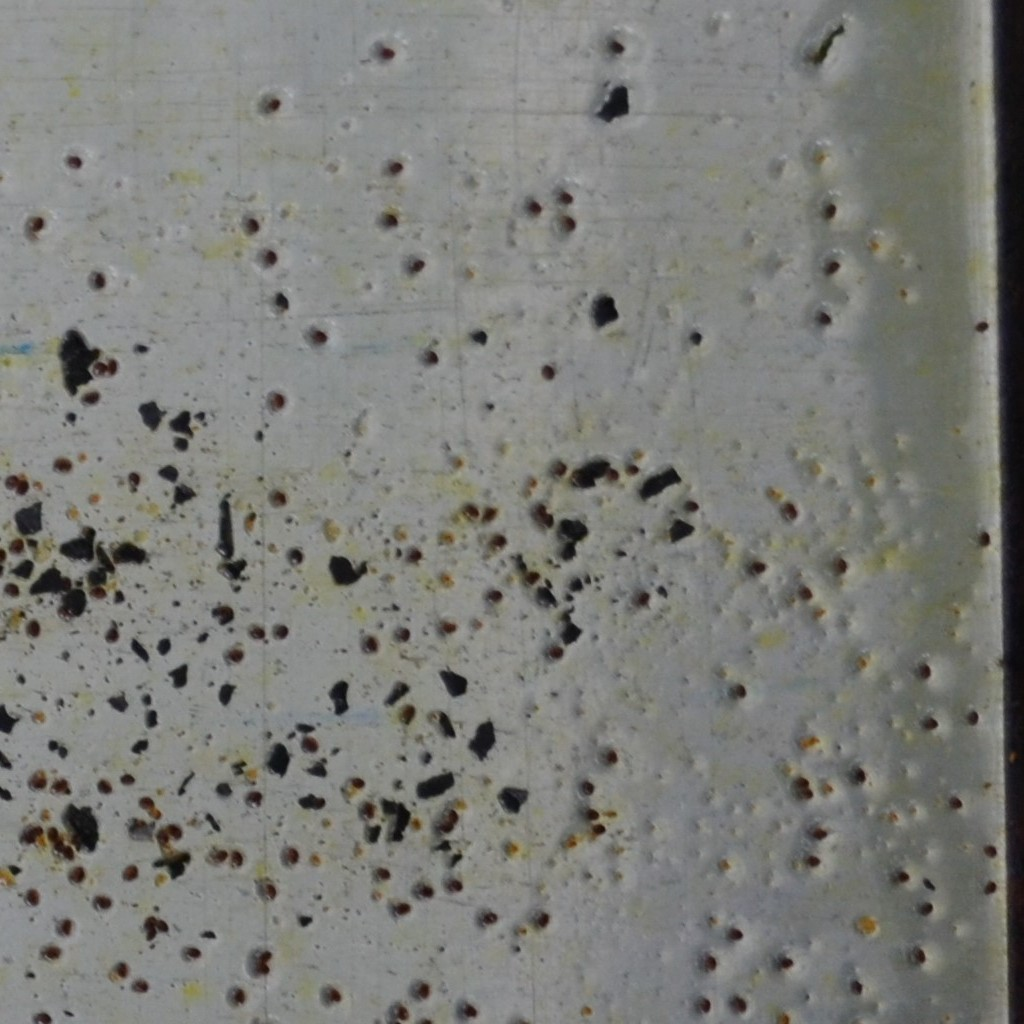varroa: (261, 91, 286, 116), (814, 307, 837, 330), (85, 268, 107, 292), (806, 823, 833, 842), (405, 254, 428, 276), (63, 152, 86, 174), (119, 862, 140, 886), (685, 327, 705, 352), (28, 213, 49, 236), (271, 620, 292, 643), (270, 389, 290, 413), (606, 38, 628, 59), (781, 499, 801, 522), (422, 347, 442, 370), (92, 892, 111, 916), (776, 952, 797, 973), (919, 714, 941, 734), (918, 875, 940, 895), (310, 327, 332, 347), (399, 703, 417, 727), (699, 952, 719, 973), (695, 992, 715, 1013), (207, 847, 228, 867), (556, 186, 575, 208), (224, 645, 246, 664), (558, 210, 576, 233), (298, 736, 321, 754), (912, 942, 929, 966), (2, 580, 22, 600), (361, 634, 381, 654), (392, 898, 412, 918), (820, 201, 839, 222), (823, 258, 844, 277), (378, 42, 397, 63), (261, 246, 280, 267), (79, 390, 100, 409), (67, 865, 86, 886), (851, 763, 868, 786), (732, 992, 749, 1015), (30, 768, 45, 794), (975, 528, 994, 548), (980, 878, 1000, 897), (848, 977, 867, 997), (726, 923, 746, 942), (248, 623, 268, 642), (982, 839, 1000, 860), (485, 587, 506, 605), (414, 882, 435, 900), (230, 985, 248, 1006), (41, 944, 62, 962), (270, 485, 287, 507), (228, 848, 245, 870), (915, 899, 934, 918), (243, 214, 262, 233), (802, 852, 822, 870), (380, 210, 398, 230), (438, 619, 458, 637), (917, 661, 934, 682), (793, 783, 814, 800), (14, 478, 31, 499), (462, 501, 479, 522), (535, 910, 552, 931), (3, 471, 19, 493), (49, 778, 71, 794), (58, 918, 74, 940), (126, 465, 142, 487), (445, 878, 464, 896), (324, 984, 343, 1002), (538, 364, 556, 383), (488, 533, 508, 550), (603, 746, 620, 766), (435, 821, 455, 838), (526, 196, 542, 217), (25, 618, 41, 639), (383, 161, 405, 176), (106, 356, 121, 378), (946, 792, 964, 810), (6, 536, 24, 554), (460, 1002, 478, 1020), (89, 584, 107, 602), (973, 320, 992, 337), (480, 505, 499, 522), (115, 958, 129, 981), (25, 887, 41, 907), (166, 821, 182, 841), (104, 625, 119, 646), (964, 710, 981, 728), (91, 361, 109, 378), (406, 548, 423, 566), (590, 821, 607, 839), (481, 909, 499, 926), (415, 981, 432, 999), (392, 1004, 410, 1021), (252, 960, 270, 977), (118, 770, 136, 787), (183, 944, 202, 960), (136, 795, 156, 810), (45, 823, 60, 843), (266, 881, 279, 904), (30, 1009, 51, 1023), (834, 556, 851, 573), (623, 460, 640, 477), (731, 682, 747, 700), (747, 560, 766, 575), (795, 584, 814, 599), (256, 948, 275, 963), (581, 779, 595, 799), (60, 844, 74, 864), (603, 466, 620, 482), (395, 626, 411, 643), (285, 846, 300, 864), (133, 978, 148, 996), (897, 867, 910, 887), (447, 806, 460, 826), (584, 806, 601, 821), (349, 774, 366, 789), (792, 776, 812, 788), (155, 918, 169, 935), (143, 926, 156, 942), (53, 839, 63, 857), (143, 915, 155, 929)
